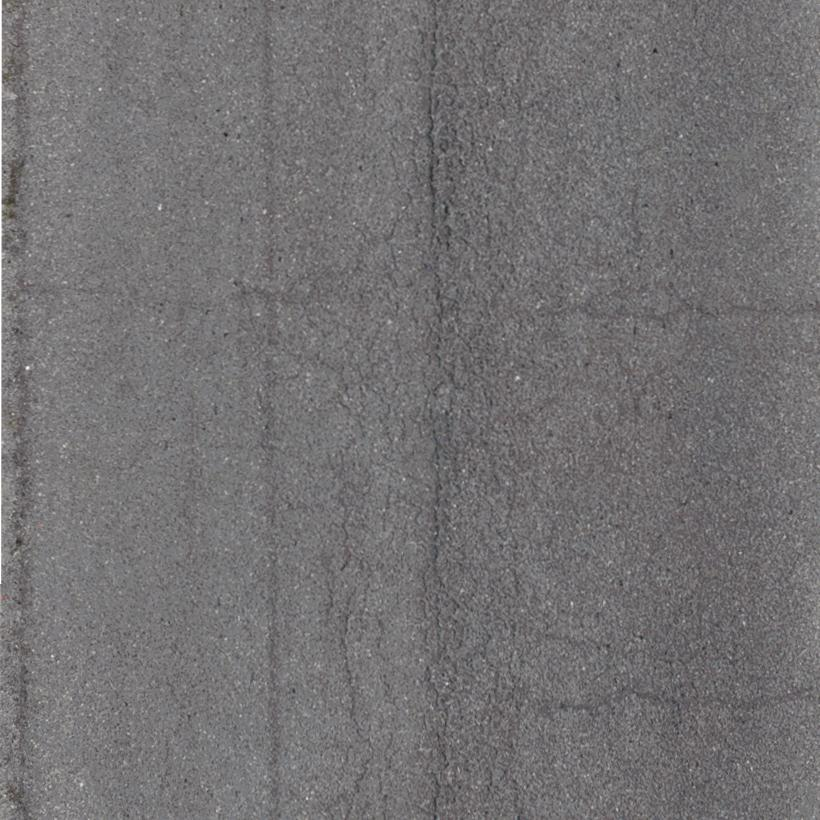GRIETA: (536, 685, 813, 712), (529, 302, 819, 322)
PIEL DE COCODRILO: (278, 0, 538, 819)
